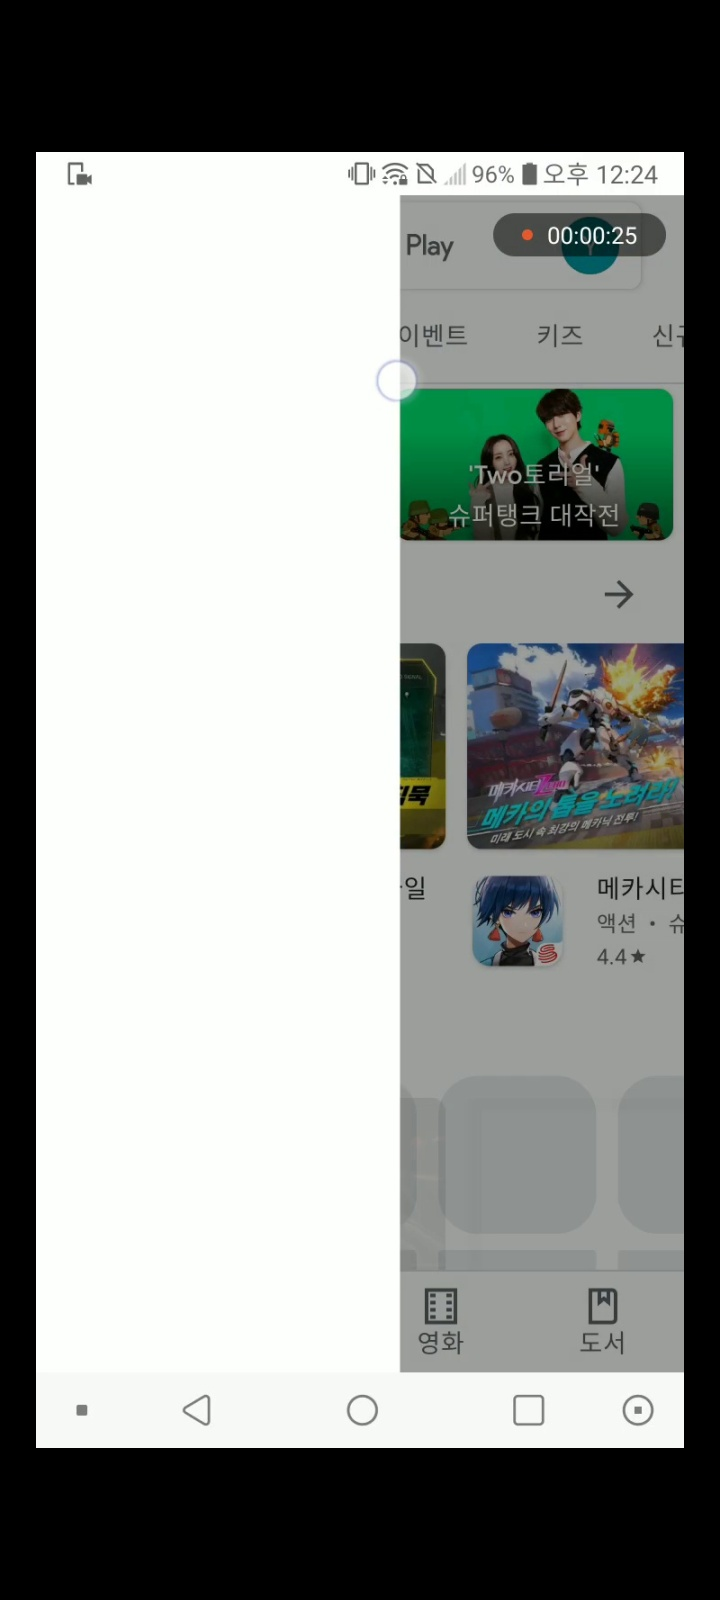Cursor: (373, 359, 418, 404)
